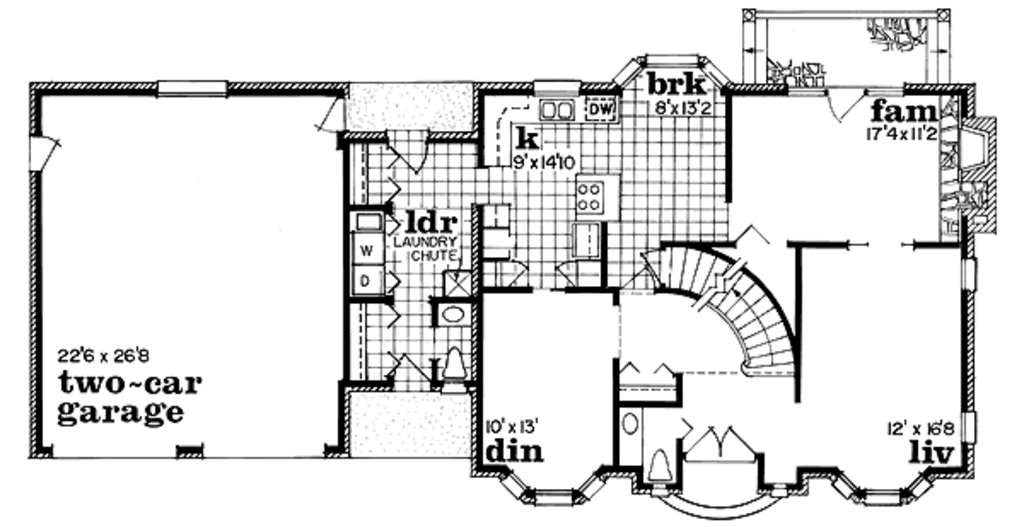door: (688, 427, 758, 464), (388, 130, 429, 174), (26, 129, 62, 178), (825, 89, 867, 127), (316, 99, 347, 138)
large_sink: (438, 347, 474, 387), (643, 447, 675, 484)
small_sink: (618, 407, 647, 473), (431, 304, 477, 325)
stairs: (648, 247, 797, 374)
twin_sink: (536, 97, 581, 123)
windows: (497, 469, 606, 512), (614, 51, 727, 90), (827, 468, 929, 509), (153, 77, 230, 98), (958, 257, 977, 294), (958, 407, 975, 447)
